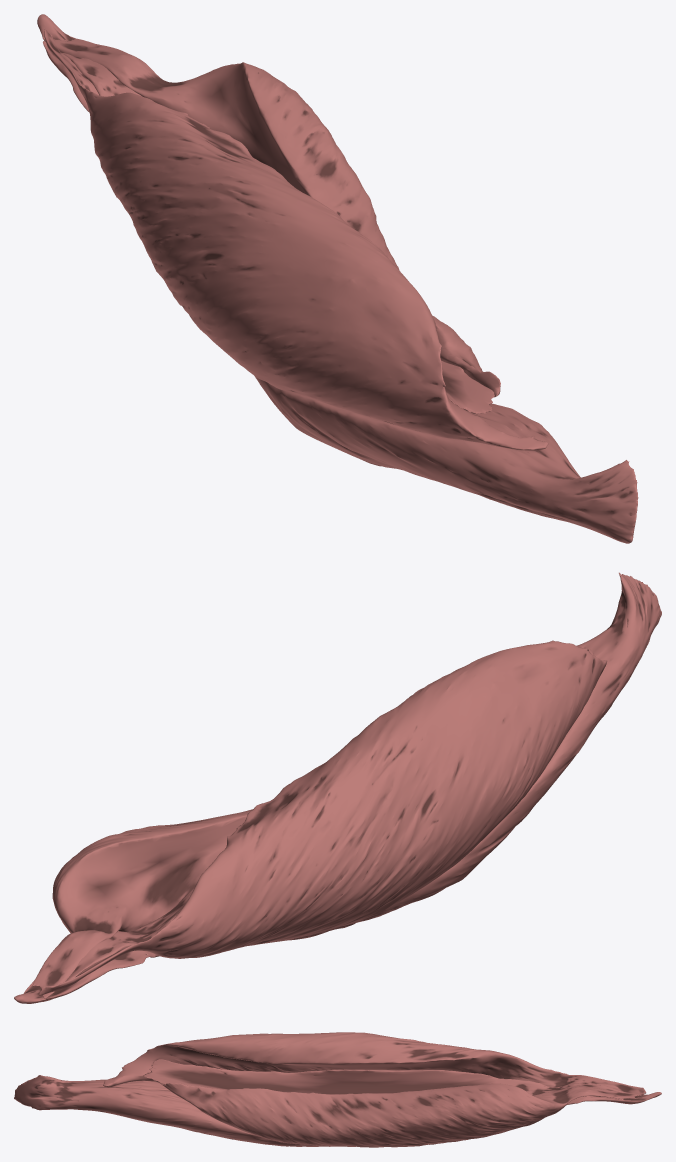
File: quadriceps.1789ff8513.glb
The picture shows the model from 3 angles, top to bottom: view 1: azimuth 30°, elevation 25°; view 2: azimuth 150°, elevation 25°; view 3: azimuth 270°, elevation 25°; orthographic projection. The views are drawn at different scales.
Parts seen in each view (by area): view 1: FMA38930, FMA38928, FMA38932, FMA38934; view 2: FMA38930, FMA38932, FMA38928, FMA38934; view 3: FMA38932, FMA38930, FMA38934, FMA38928.
Boxes of the visible parts, x1=… form: FMA38930: x1=44, y1=29, x2=548, y2=450; FMA38928: x1=37, y1=14, x2=638, y2=543; FMA38932: x1=44, y1=38, x2=500, y2=397; FMA38934: x1=60, y1=52, x2=494, y2=414; FMA38930: x1=39, y1=640, x2=607, y2=995; FMA38932: x1=33, y1=809, x2=252, y2=998; FMA38928: x1=14, y1=572, x2=661, y2=1003; FMA38934: x1=65, y1=887, x2=194, y2=981; FMA38932: x1=160, y1=1083, x2=644, y2=1147; FMA38930: x1=103, y1=1032, x2=646, y2=1095; FMA38934: x1=143, y1=1059, x2=625, y2=1099; FMA38928: x1=14, y1=1075, x2=661, y2=1146.
Bounding box in the file's own units: 121 × 92.03 × 526.
